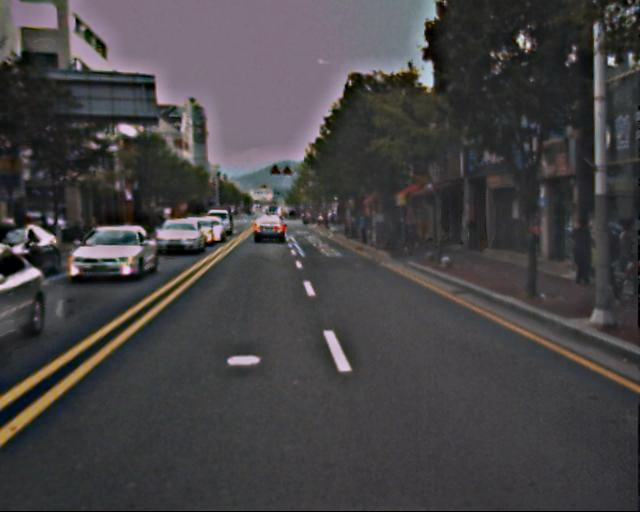person: (610, 220, 640, 306), (565, 217, 596, 283)
